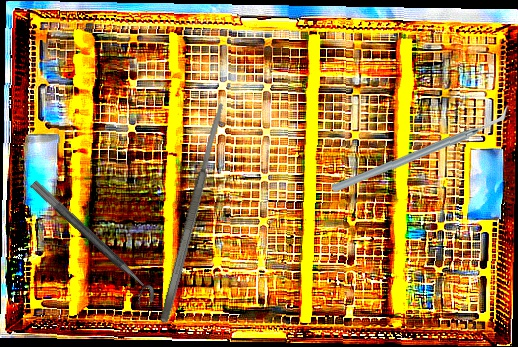Chopper: (332, 101, 510, 197)
Fixation Ring: (20, 179, 160, 312)
Spatula Surgical: (157, 99, 229, 325)
